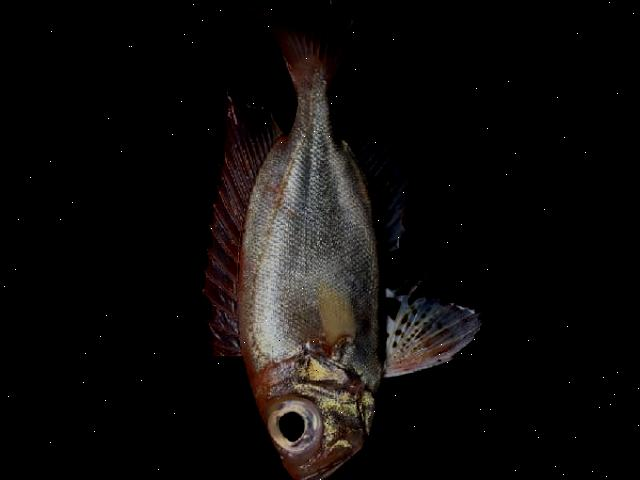Mulut: (275, 439, 366, 480)
Sirip Anal: (330, 114, 422, 252)
Sirip Dada: (313, 269, 369, 355)
Sirip Ekor: (232, 0, 374, 89)
Sirip Perut: (372, 274, 488, 382)
Sirip Punggung: (192, 84, 288, 362)
